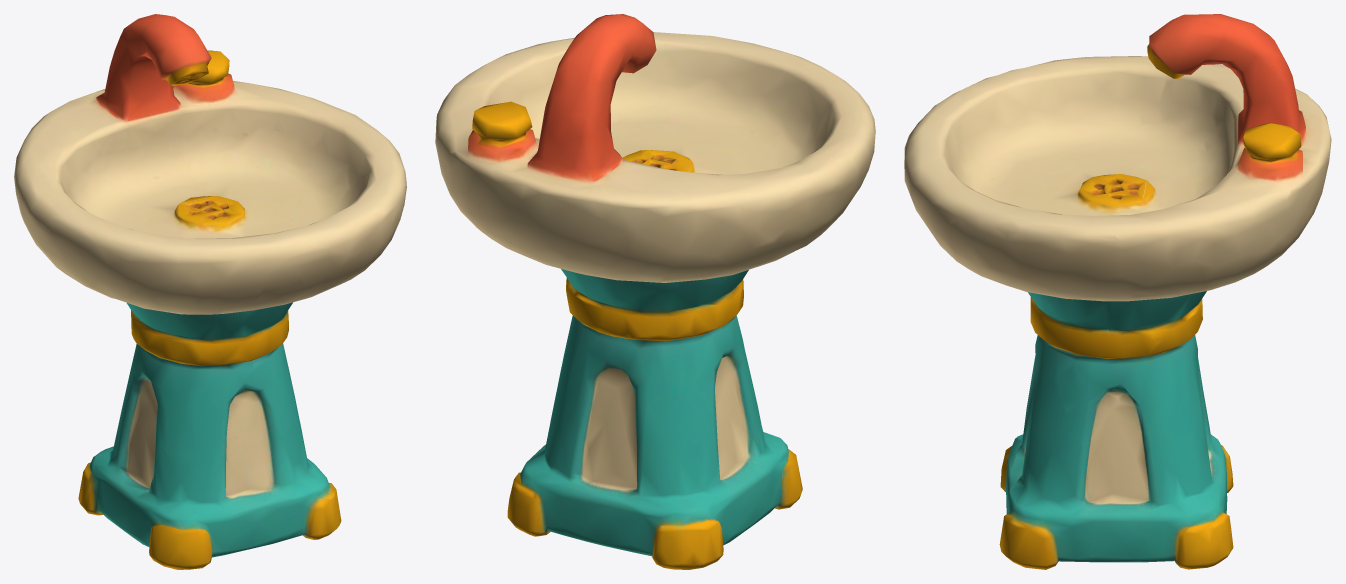
File: city-drinking-fountain.glb
The picture shows the model from 3 angles, left to right: view 1: azimuth 30°, elevation 25°; view 2: azimuth 150°, elevation 25°; view 3: azimuth 270°, elevation 25°; orthographic projection. The views are drawn at different scales.
Visible parts, largest first — view 1: city-drinking-fountain; view 2: city-drinking-fountain; view 3: city-drinking-fountain.
Part boxes in pixels (x1,y1,x2,y2): city-drinking-fountain: (14,14,406,569); city-drinking-fountain: (435,14,875,569); city-drinking-fountain: (904,14,1331,569).
Bounding box in the file's own units: 0.6986 × 0.9193 × 0.7.
1 material, 1 textured.
